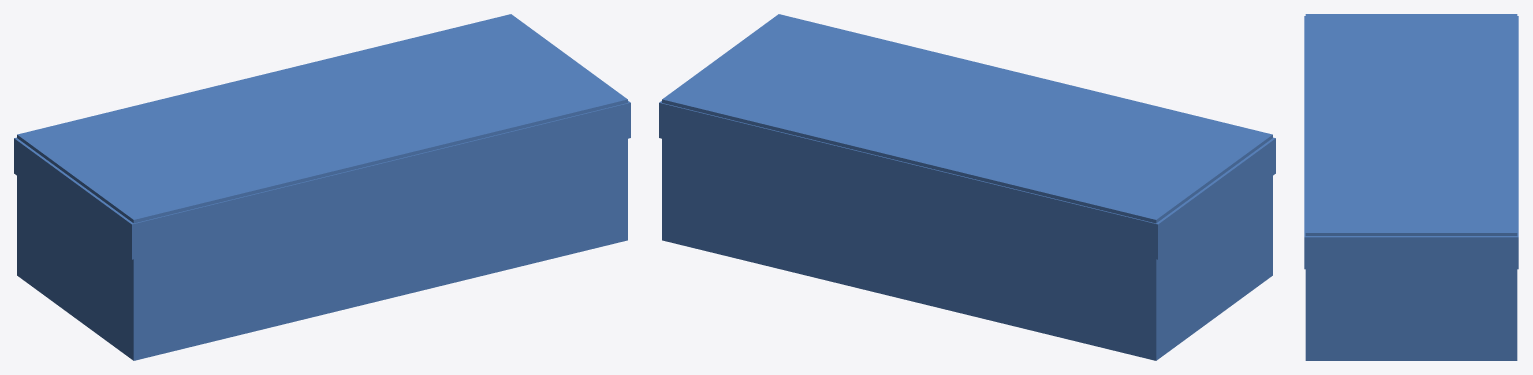
Rendered from g_biscuit_pack.glb.
3 views of the same model, side by side, from view 1: azimuth 30°, elevation 25°; view 2: azimuth 150°, elevation 25°; view 3: azimuth 270°, elevation 25° (orthographic). The views are drawn at different scales.
Parts seen in each view (by area): view 1: g_biscuit_pack; view 2: g_biscuit_pack; view 3: g_biscuit_pack.
Boxes of the visible parts, left/top/right/bottom form: g_biscuit_pack: left=14, top=14, right=630, bottom=360; g_biscuit_pack: left=659, top=14, right=1275, bottom=360; g_biscuit_pack: left=1304, top=14, right=1518, bottom=360.
Size of the model in its own units: 0.2222 by 0.06 by 0.0909.
